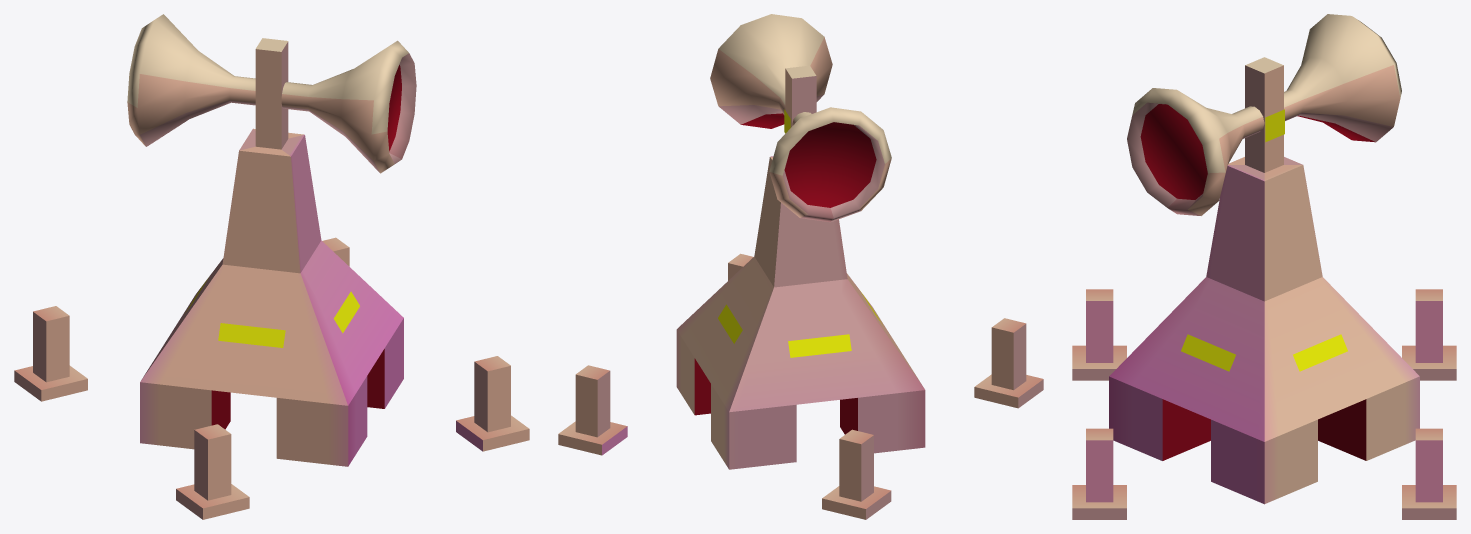
The model's file is CommTower.WhiteNova.glb.
The picture shows the model from 3 angles, left to right: view 1: azimuth 30°, elevation 25°; view 2: azimuth 150°, elevation 25°; view 3: azimuth 270°, elevation 25°; orthographic projection. The views are drawn at different scales.
Parts seen in each view (by area): view 1: CommTower.WhiteNova; view 2: CommTower.WhiteNova; view 3: CommTower.WhiteNova.
Part boxes in pixels (x1,y1,x2,y2): CommTower.WhiteNova: (14, 14, 529, 519); CommTower.WhiteNova: (558, 14, 1043, 519); CommTower.WhiteNova: (1072, 14, 1456, 519).
Bounding box in the file's own units: 2.8 × 3.1 × 2.8.
2 materials, 1 textured.
